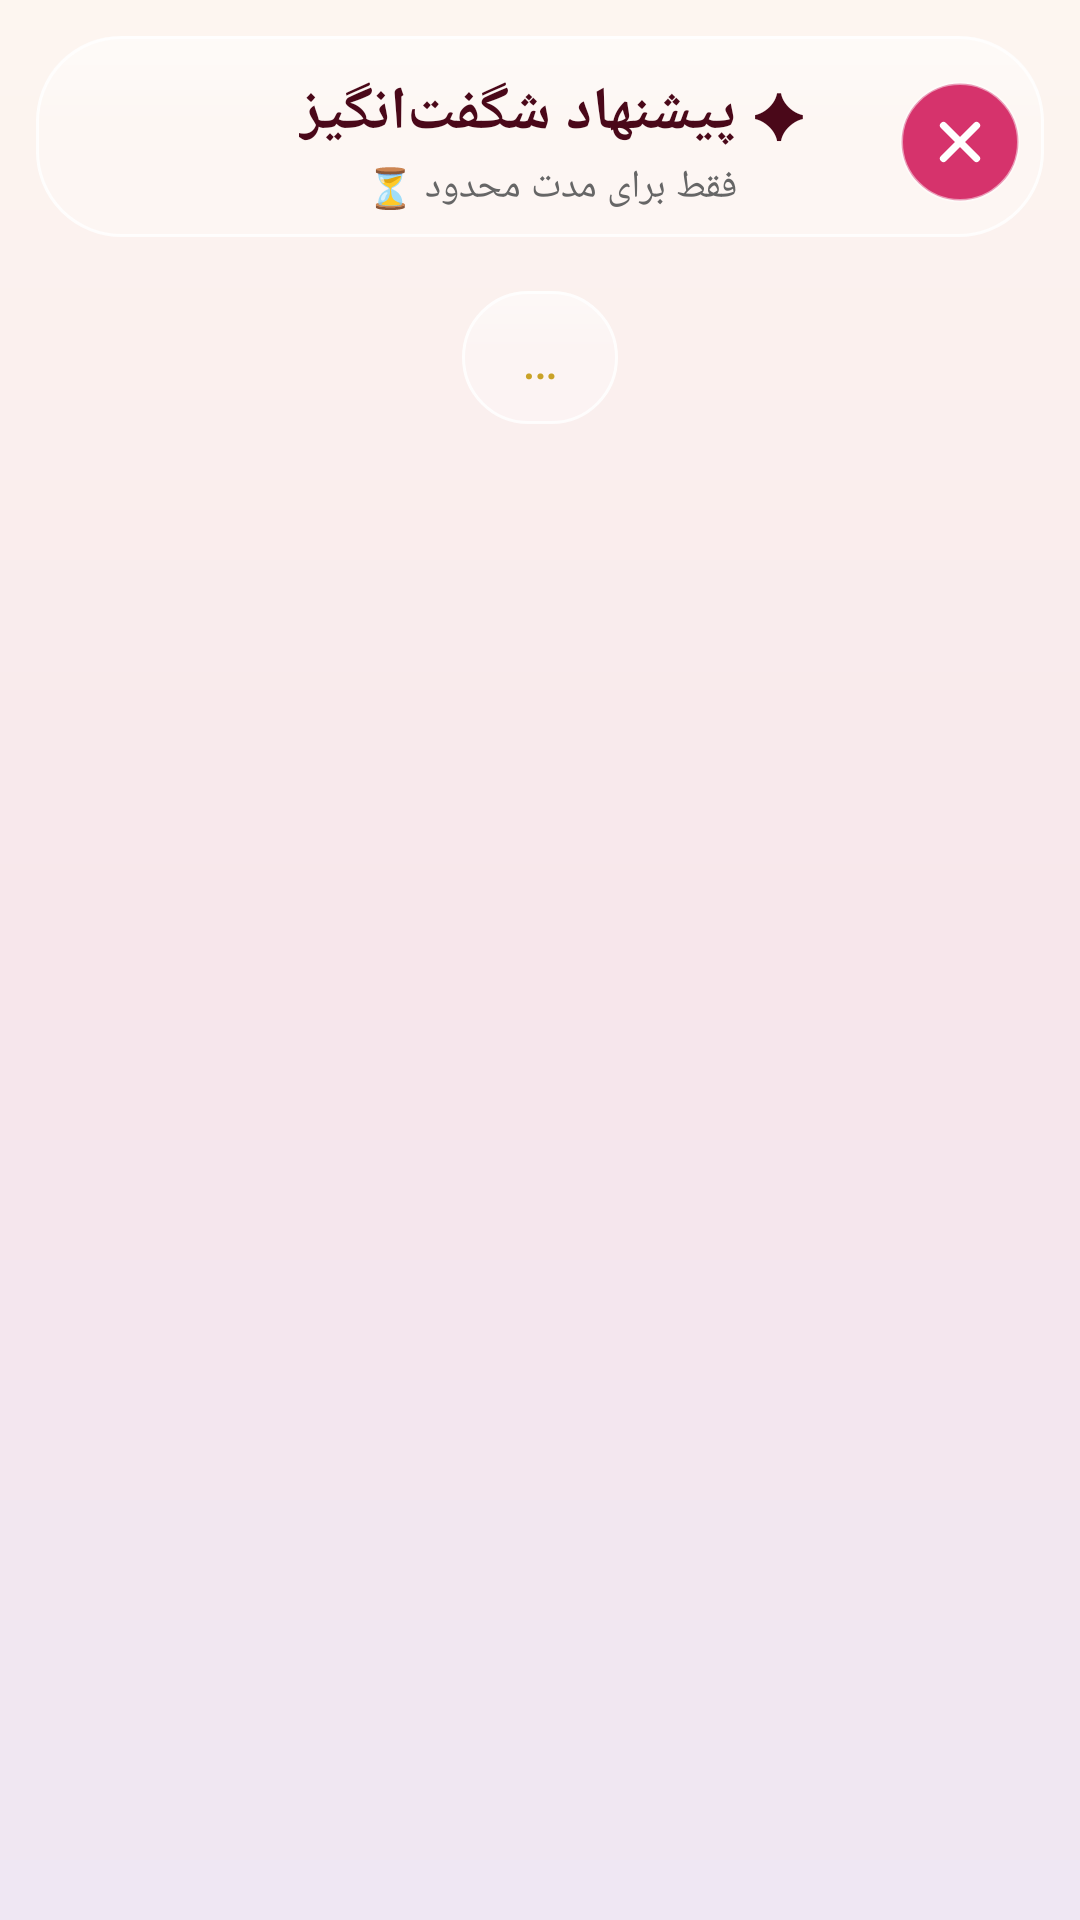

Named icons in this screenshot (1080px x 1920px) and their centers, (x,y):
بستن: (960,142)
